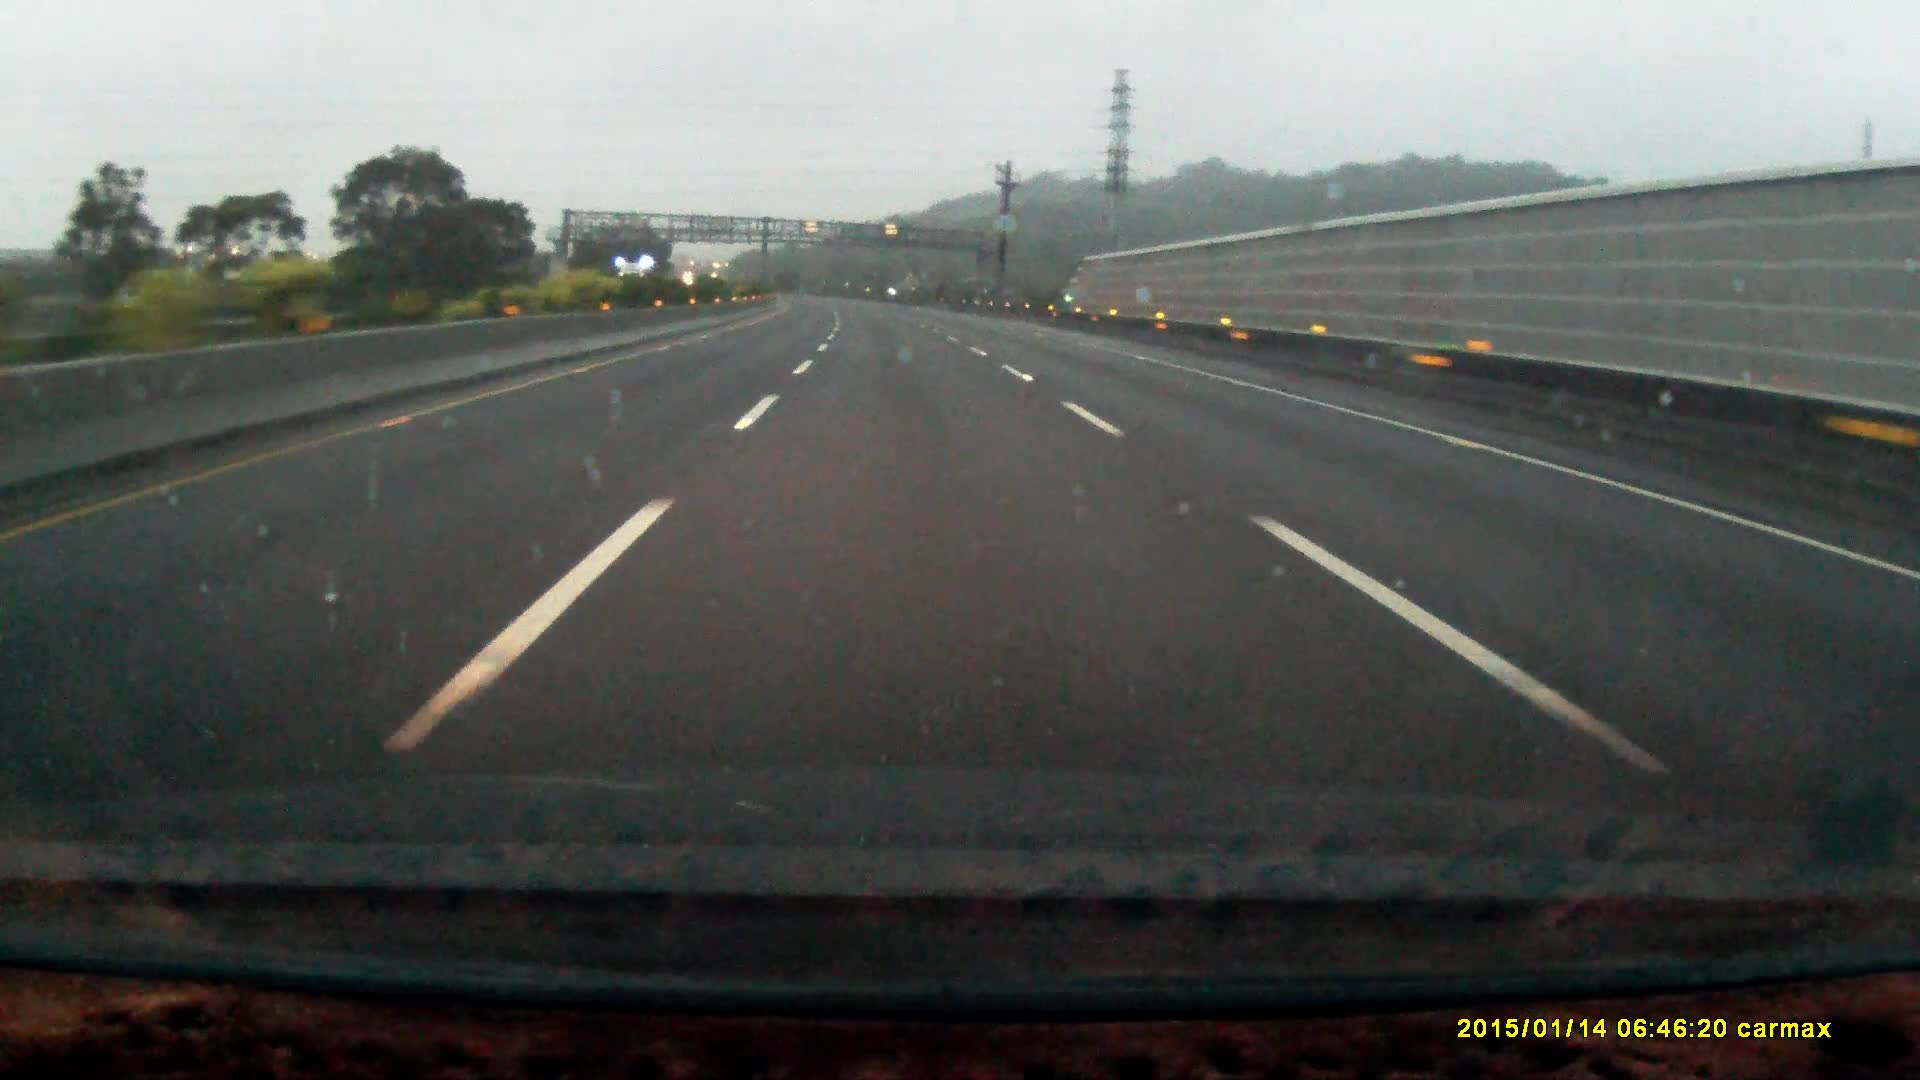vehicle: (616, 261, 659, 310)
